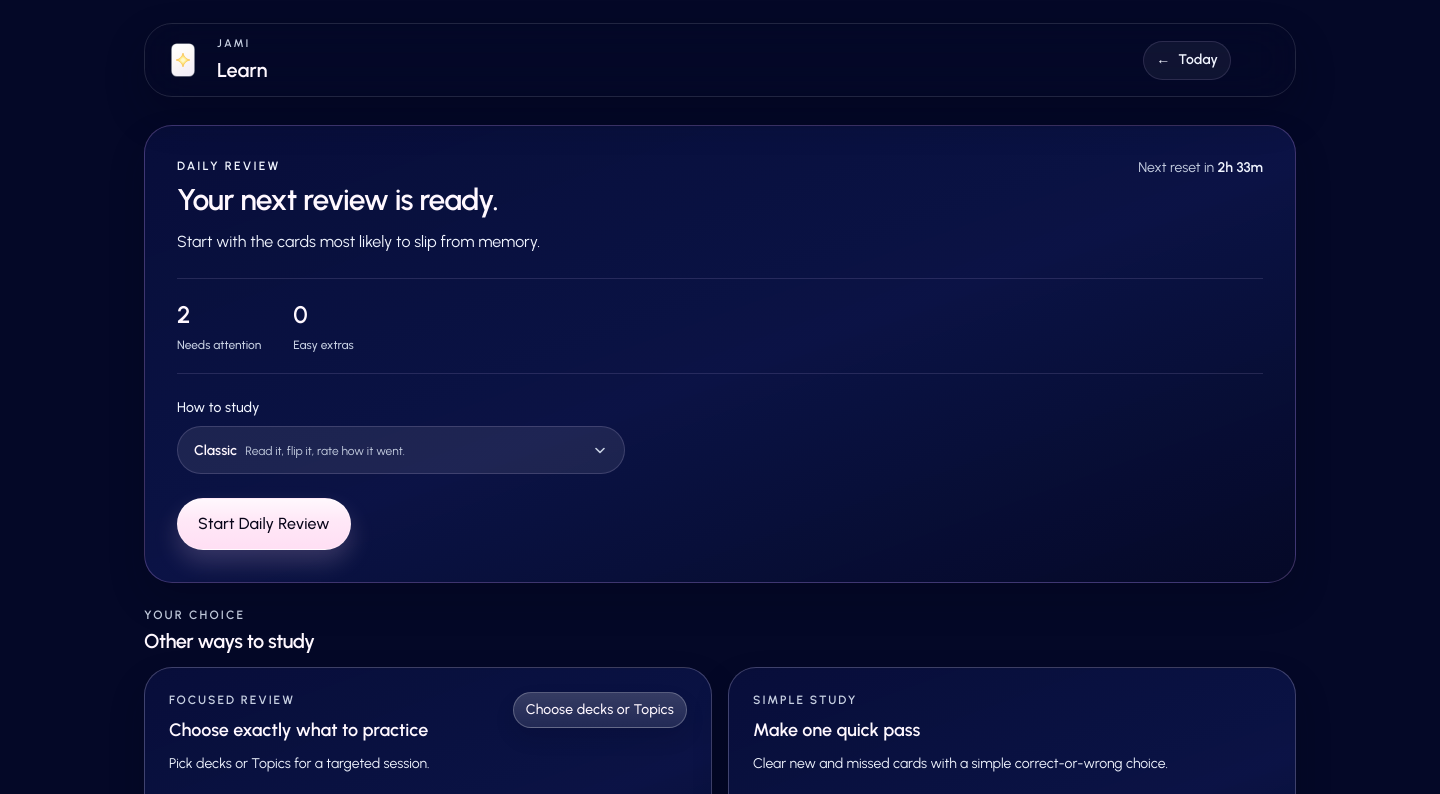
Test case: the answer-first modes › does not change the question under a student when late assets land
Click the button that starts with "Classic": click(401, 450) 177,426 -> 625,474
(page scrolled)
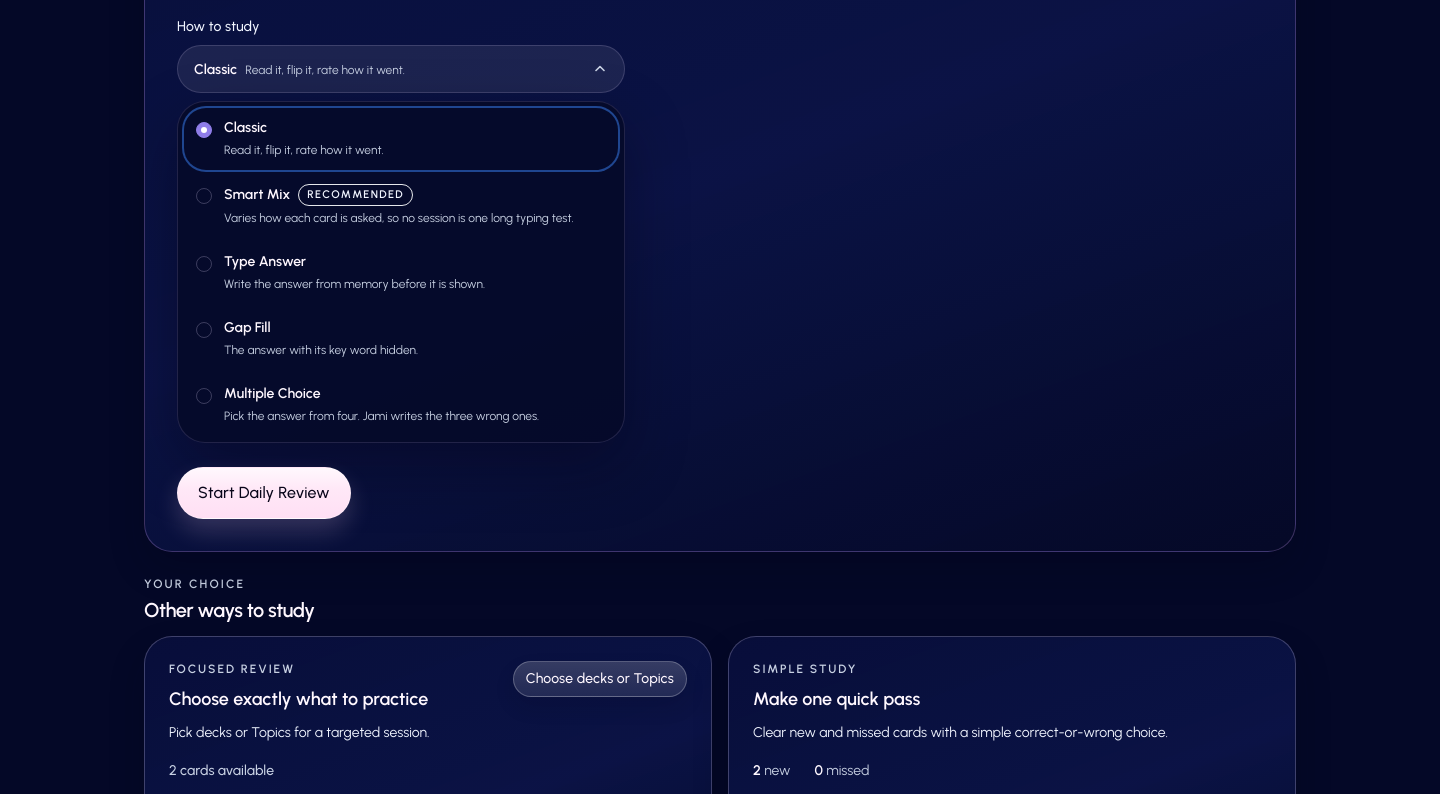
Now the option that starts with "Multiple Choice" is shown
Click the option that starts with "Multiple Choice": click(272, 394) 184,374 -> 618,436
(page scrolled)
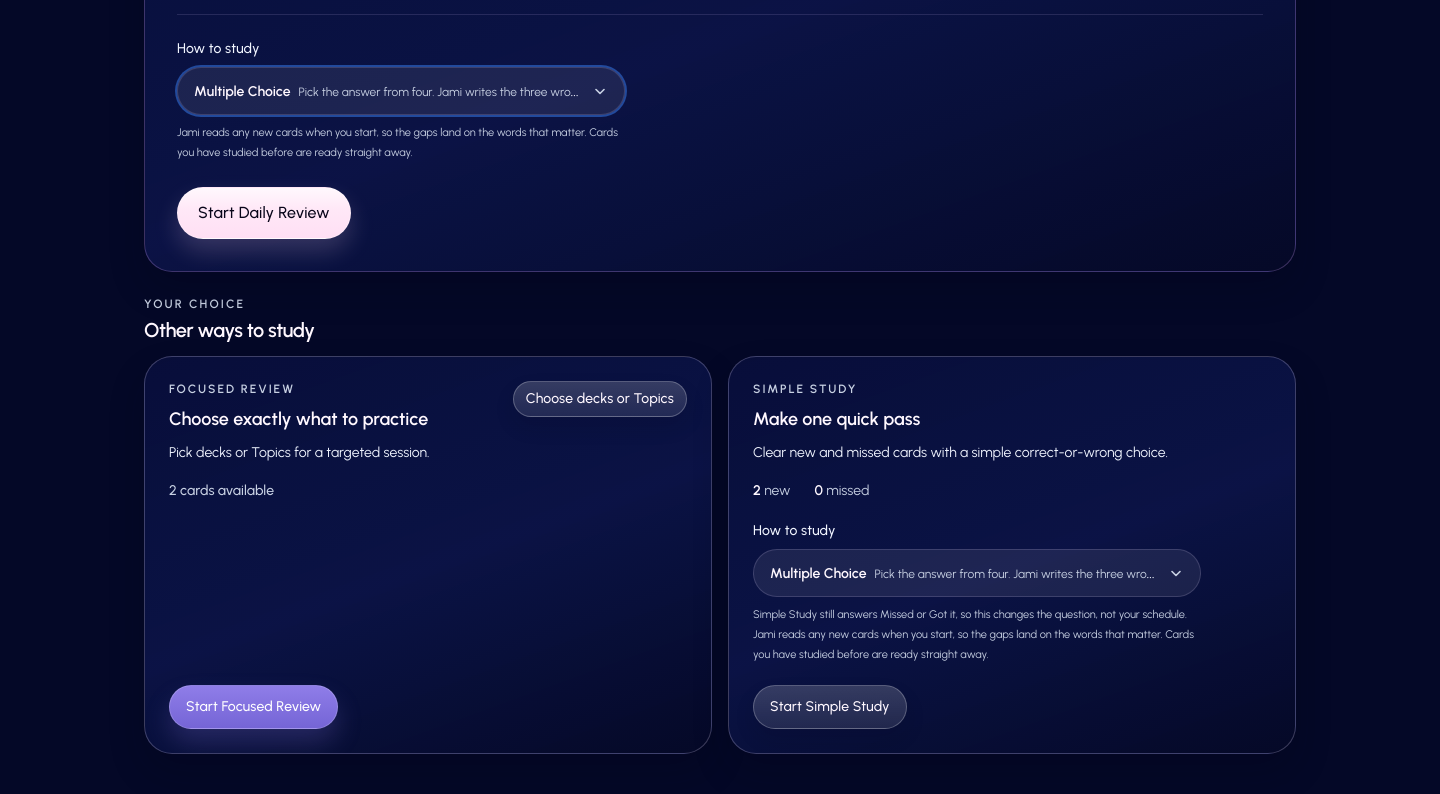
Now the button below "Needs attention" is collapsed, box 177,67 -> 625,115
Click the button "Start Daily Review": click(264, 213) 177,187 -> 351,239
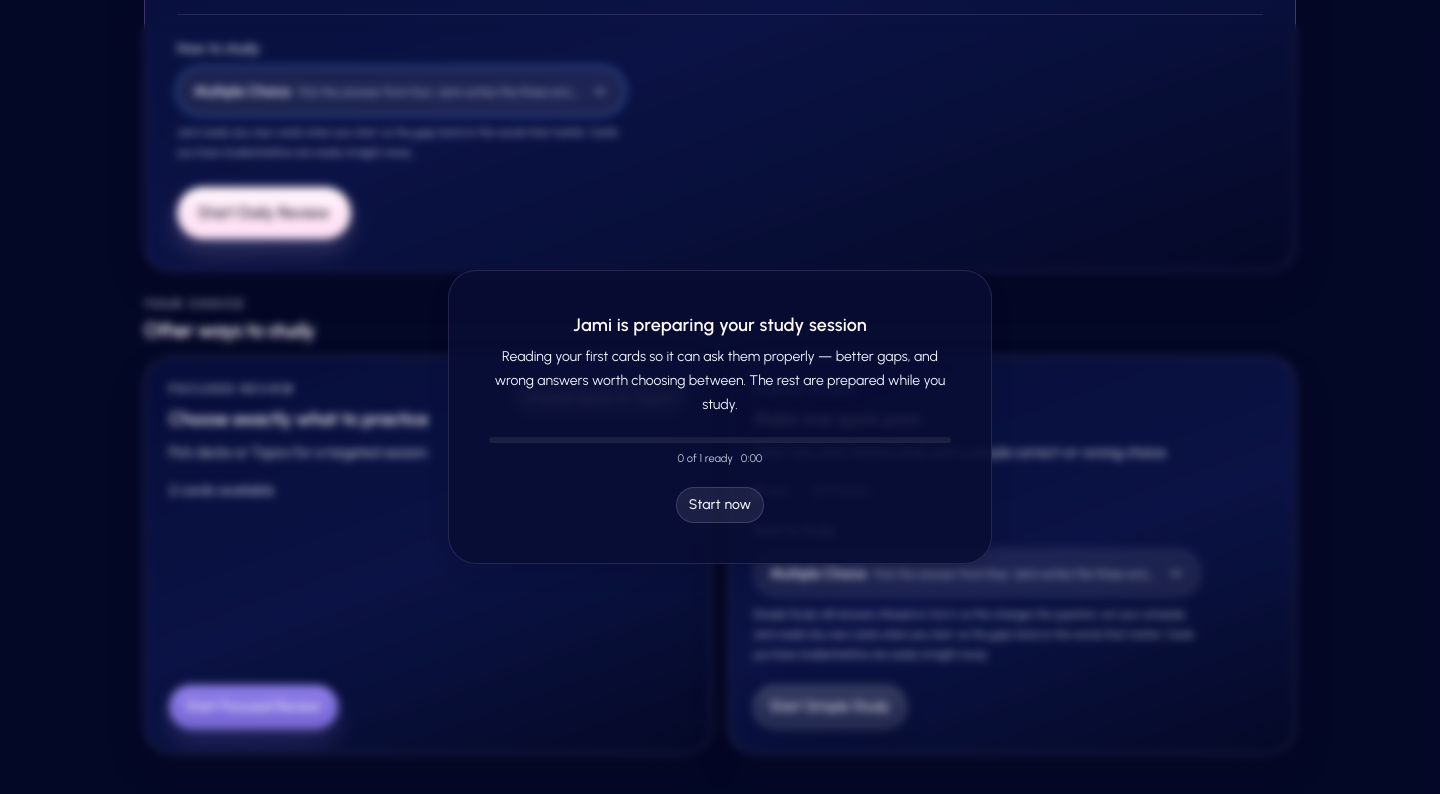
Now the button "Start now" is shown
Click the button "Start now": click(720, 505) 676,487 -> 764,523
(page scrolled)
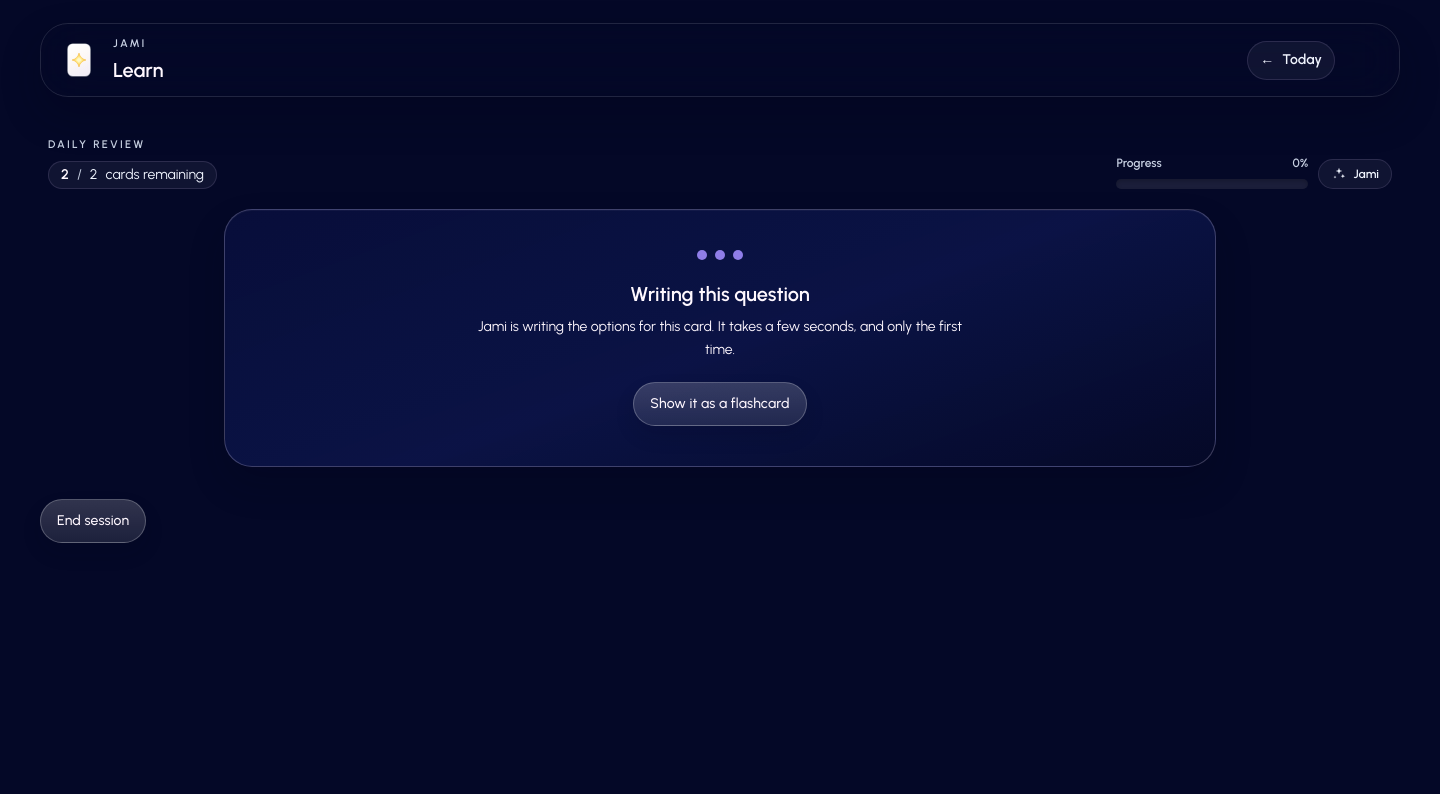
Now the text "Writing this question" is shown, box 630,282 -> 810,306
Now the button "Show it as a flashcard" is shown
Click the button "Show it as a flashcard": click(720, 404) 633,382 -> 807,426
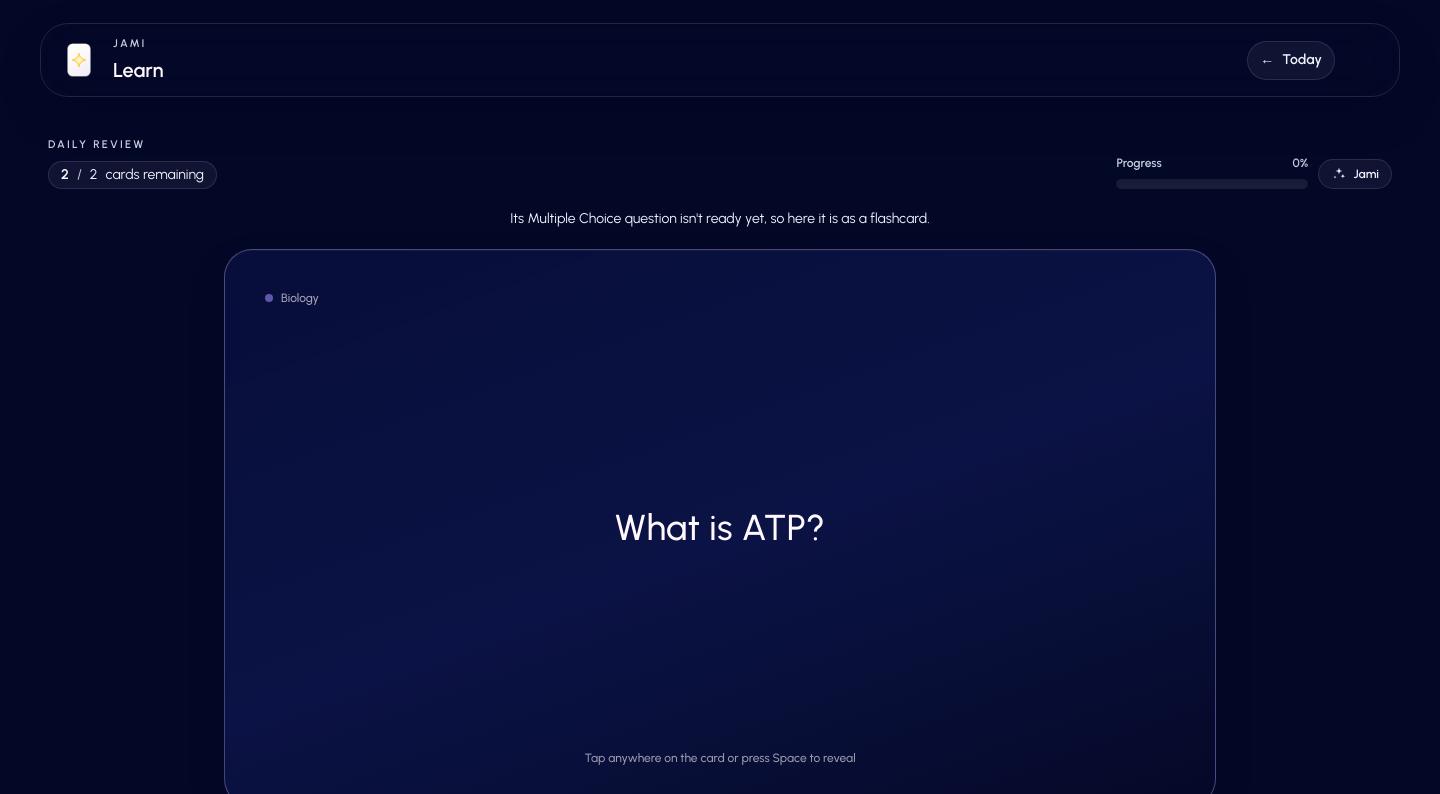
Now the text "isn't ready yet, so here it is as a flashcard" is shown, box 510,210 -> 930,227
